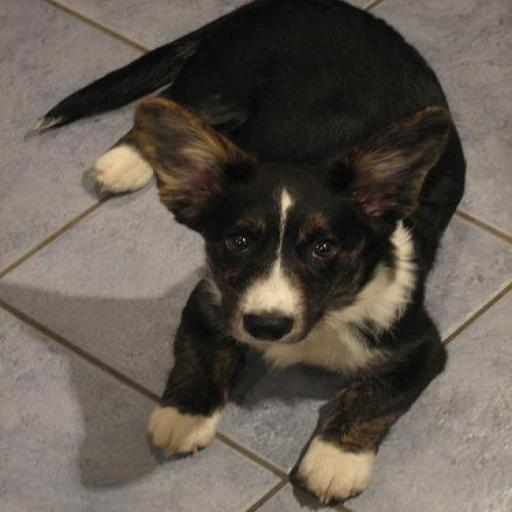dog_face: (121, 98, 443, 344)
